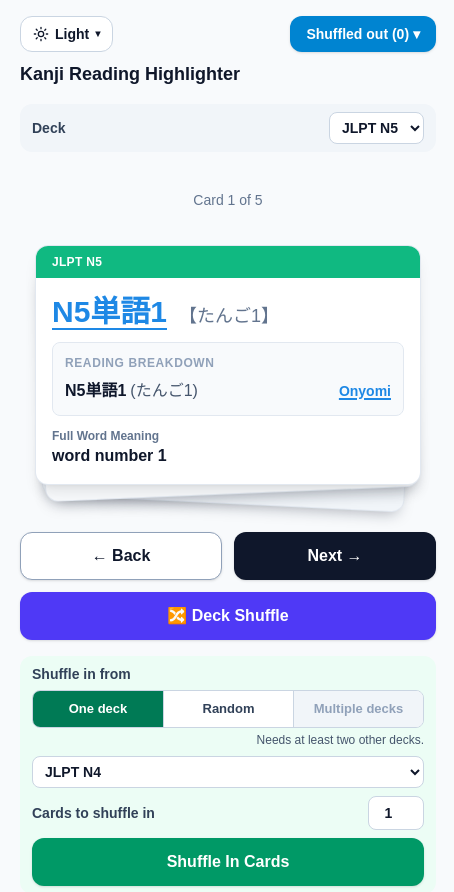
Test: Back in a deck with a missing card (addition) › Back goes to the card seen before, and from the first card to the last, past nothing missing
The image size is (454, 892).
expect the text "Card 1 of 5" is shown: met, box 193,192 -> 263,208
Click the button "Next →" at point(335, 556), box 234,532 -> 436,580
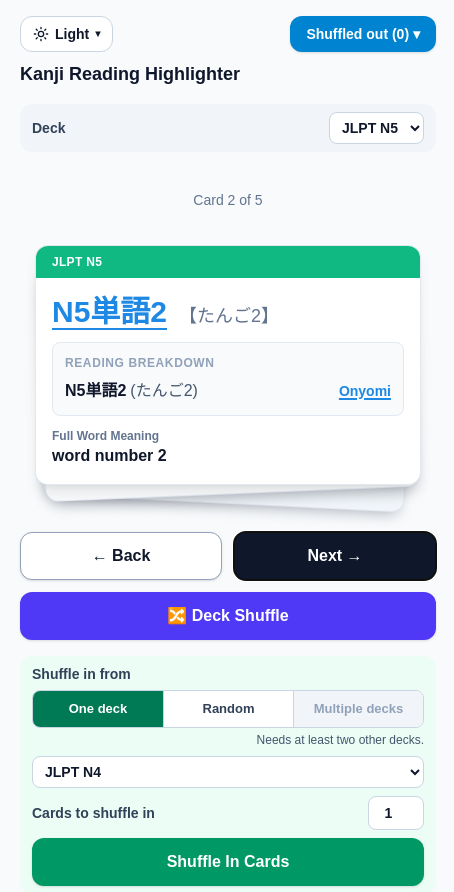
expect the heading "N5単語2 【たんご2】" is shown: met, box 52,295 -> 279,330
Click the button "← Back" at point(121, 556), box 20,532 -> 222,580
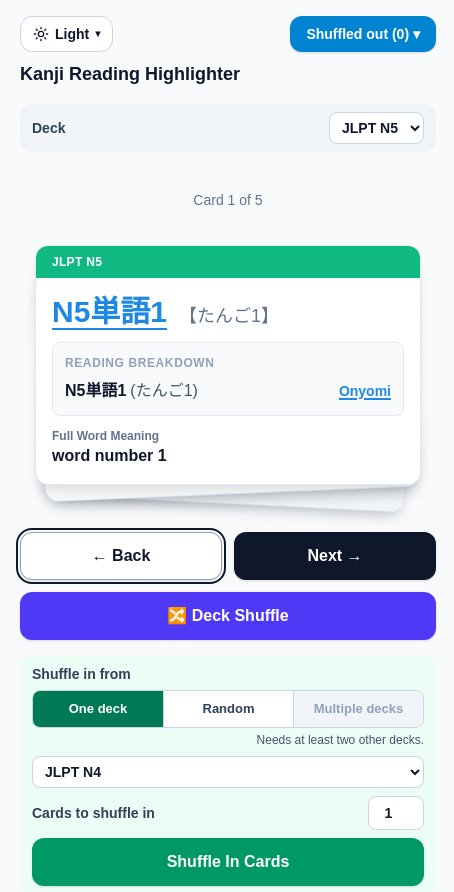
expect the heading "N5単語1 【たんご1】" is shown: met, box 52,295 -> 279,330
Click the button "← Back" at point(121, 556), box 20,532 -> 222,580
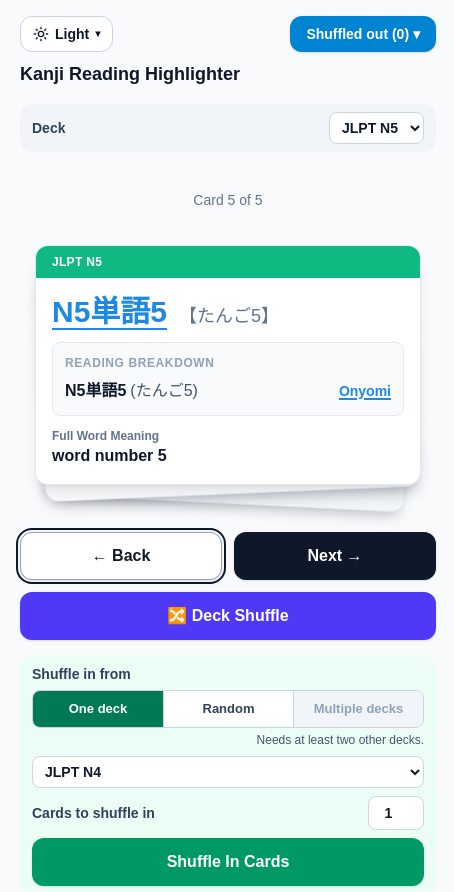
expect the heading "N5単語5 【たんご5】" is shown: met, box 52,295 -> 279,330
